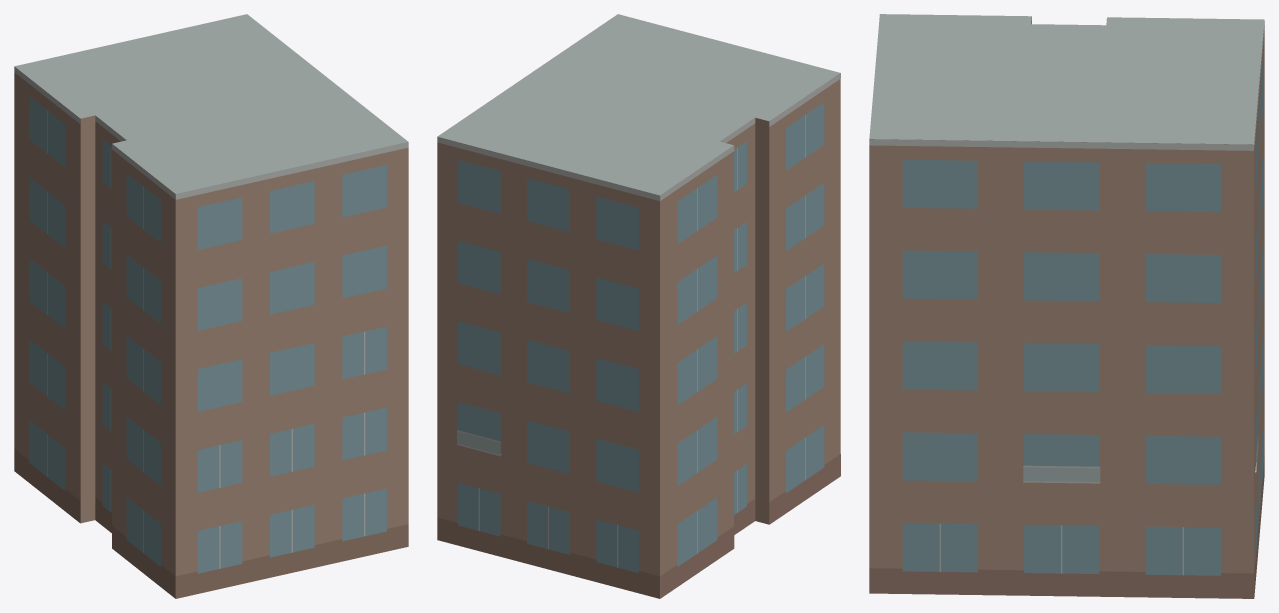
Rendered from survey-upis-32565864.glb.
3 views of the same model, side by side, from view 1: azimuth 30°, elevation 25°; view 2: azimuth 150°, elevation 25°; view 3: azimuth 270°, elevation 25° (orthographic). The views are drawn at different scales.
Visible parts, largest first — view 1: survey-upis-32565864.tmp; view 2: survey-upis-32565864.tmp; view 3: survey-upis-32565864.tmp.
Boxes of the visible parts, left/top/right/bottom form: survey-upis-32565864.tmp: left=14, top=14, right=408, bottom=598; survey-upis-32565864.tmp: left=437, top=14, right=840, bottom=598; survey-upis-32565864.tmp: left=869, top=14, right=1264, bottom=598.
Size of the model in its own units: 10.66 by 17.3 by 13.65.
